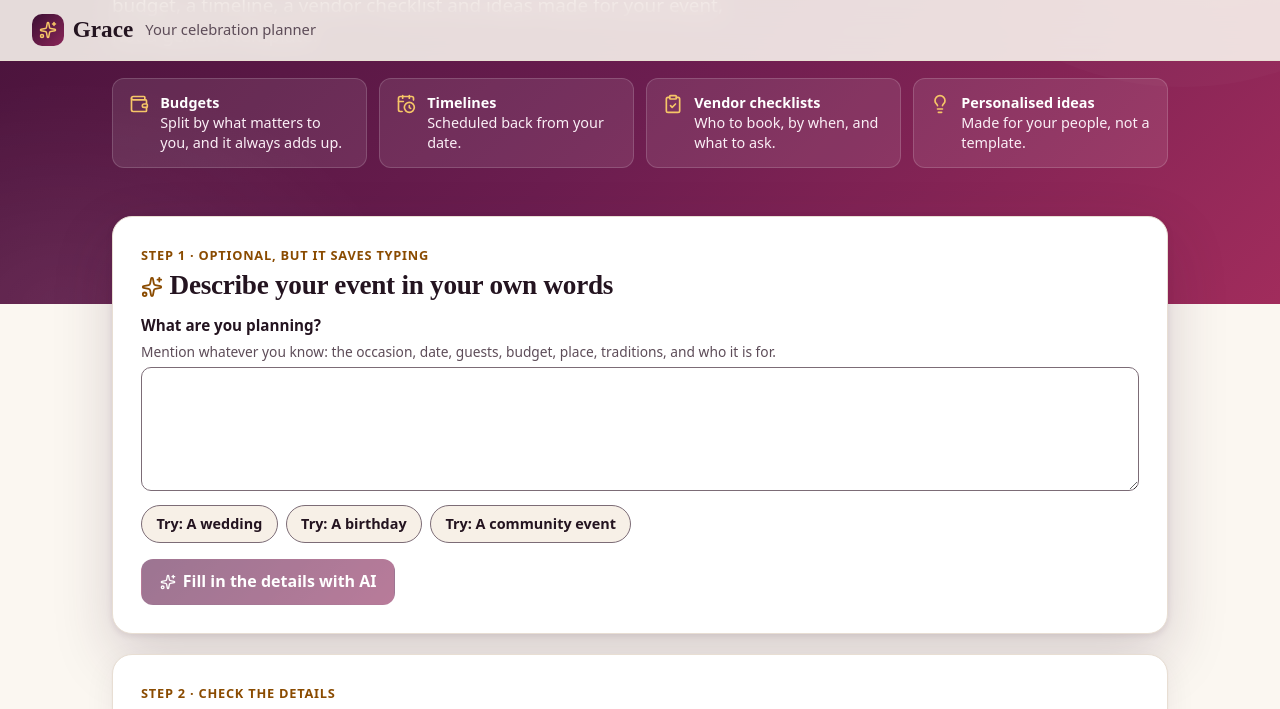
Test case: home › reports a failed description request without losing what was typed
(page scrolled)
Type "A party" into the text box labelled "What are you planning?" at (640, 429), box [141,367,1139,491]
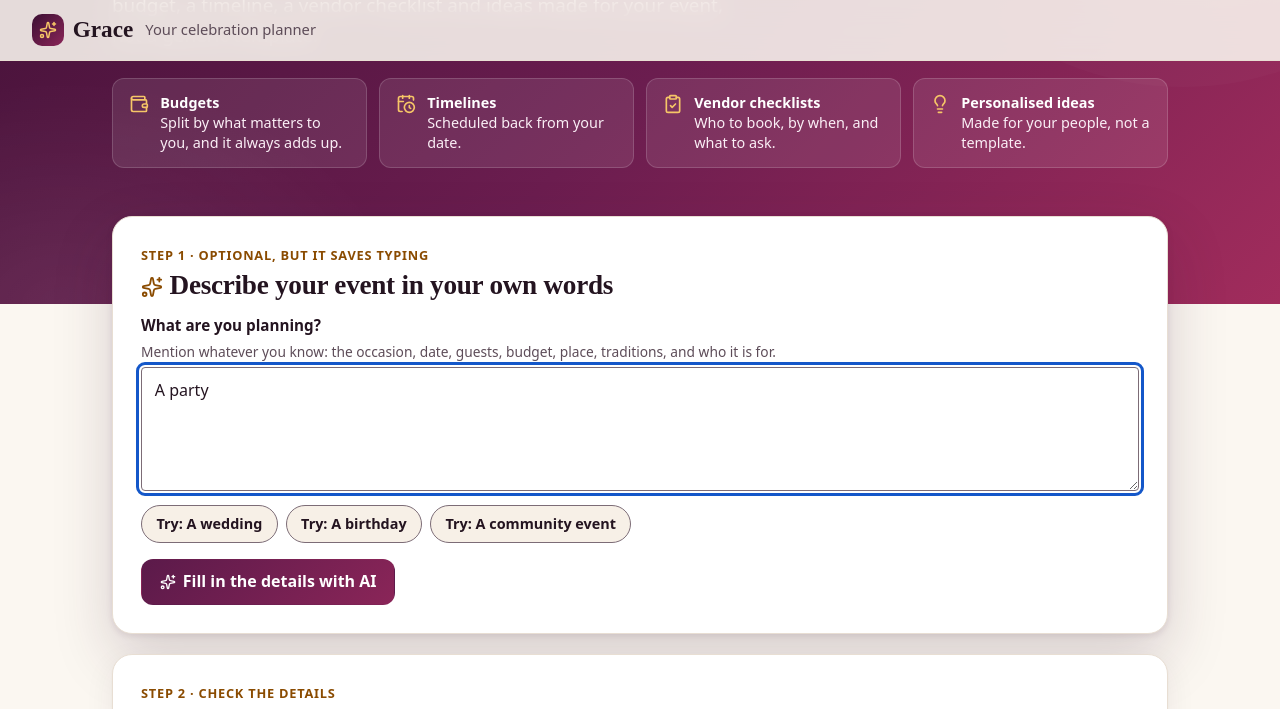
Click the button "Fill in the details with AI" at (268, 582), box [141,559,395,605]
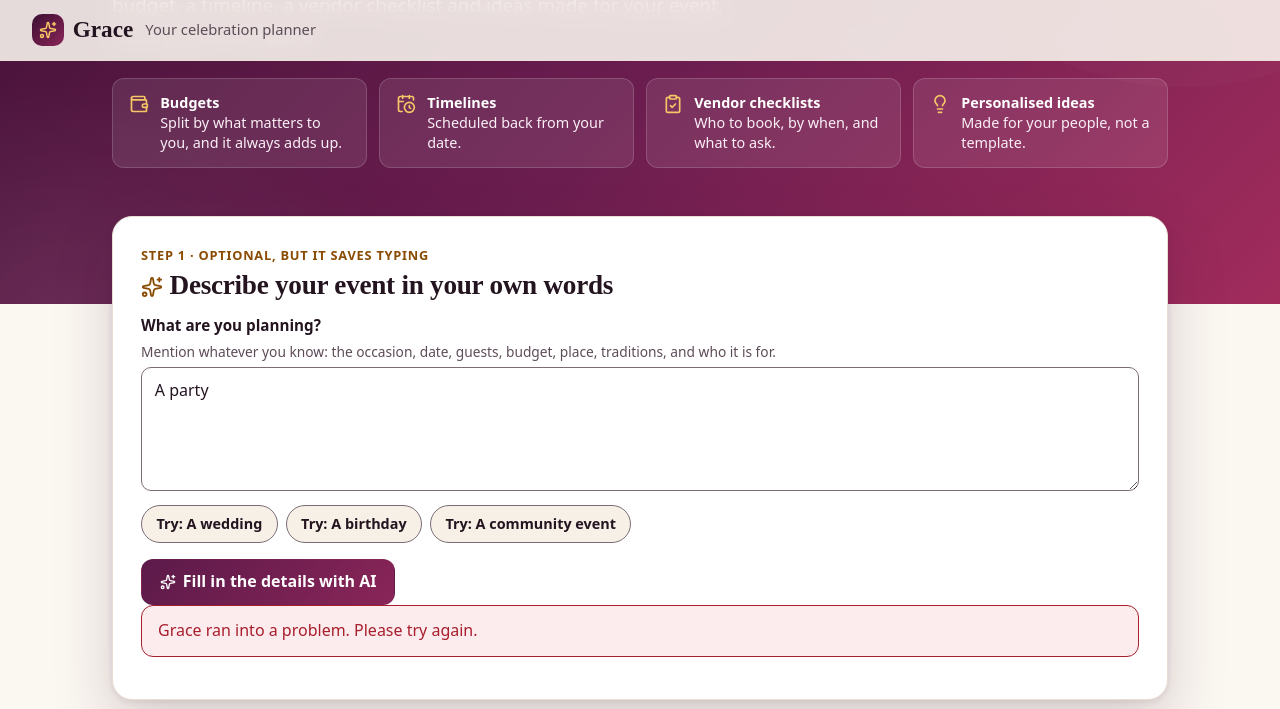
Check: the message shows "ran into a problem", box [158,619,478,641]
